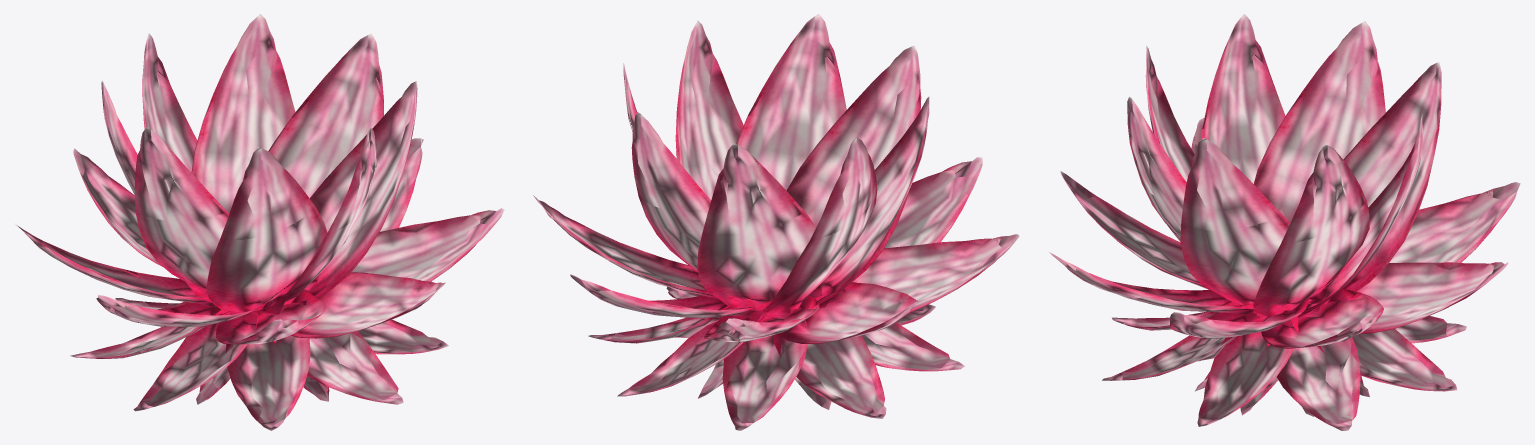
3 renders of one model, left to right at view 1: azimuth 30°, elevation 25°; view 2: azimuth 150°, elevation 25°; view 3: azimuth 270°, elevation 25°, orthographic.
Visible parts, largest first — view 1: 07a88cb8; view 2: 07a88cb8; view 3: 07a88cb8.
Boxes of the visible parts, box(x1,y1,x2,y2) form: 07a88cb8: box(16, 14, 504, 430); 07a88cb8: box(533, 14, 1019, 430); 07a88cb8: box(1049, 14, 1520, 430).
Bounding box in the file's own units: 0.1386 × 0.0969 × 0.1382.
Materials: 1 (1 with a texture image).
